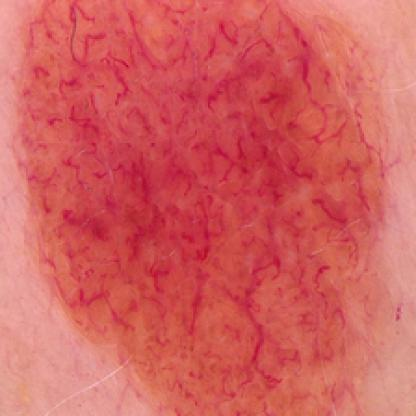benign: (20, 2, 394, 414)
